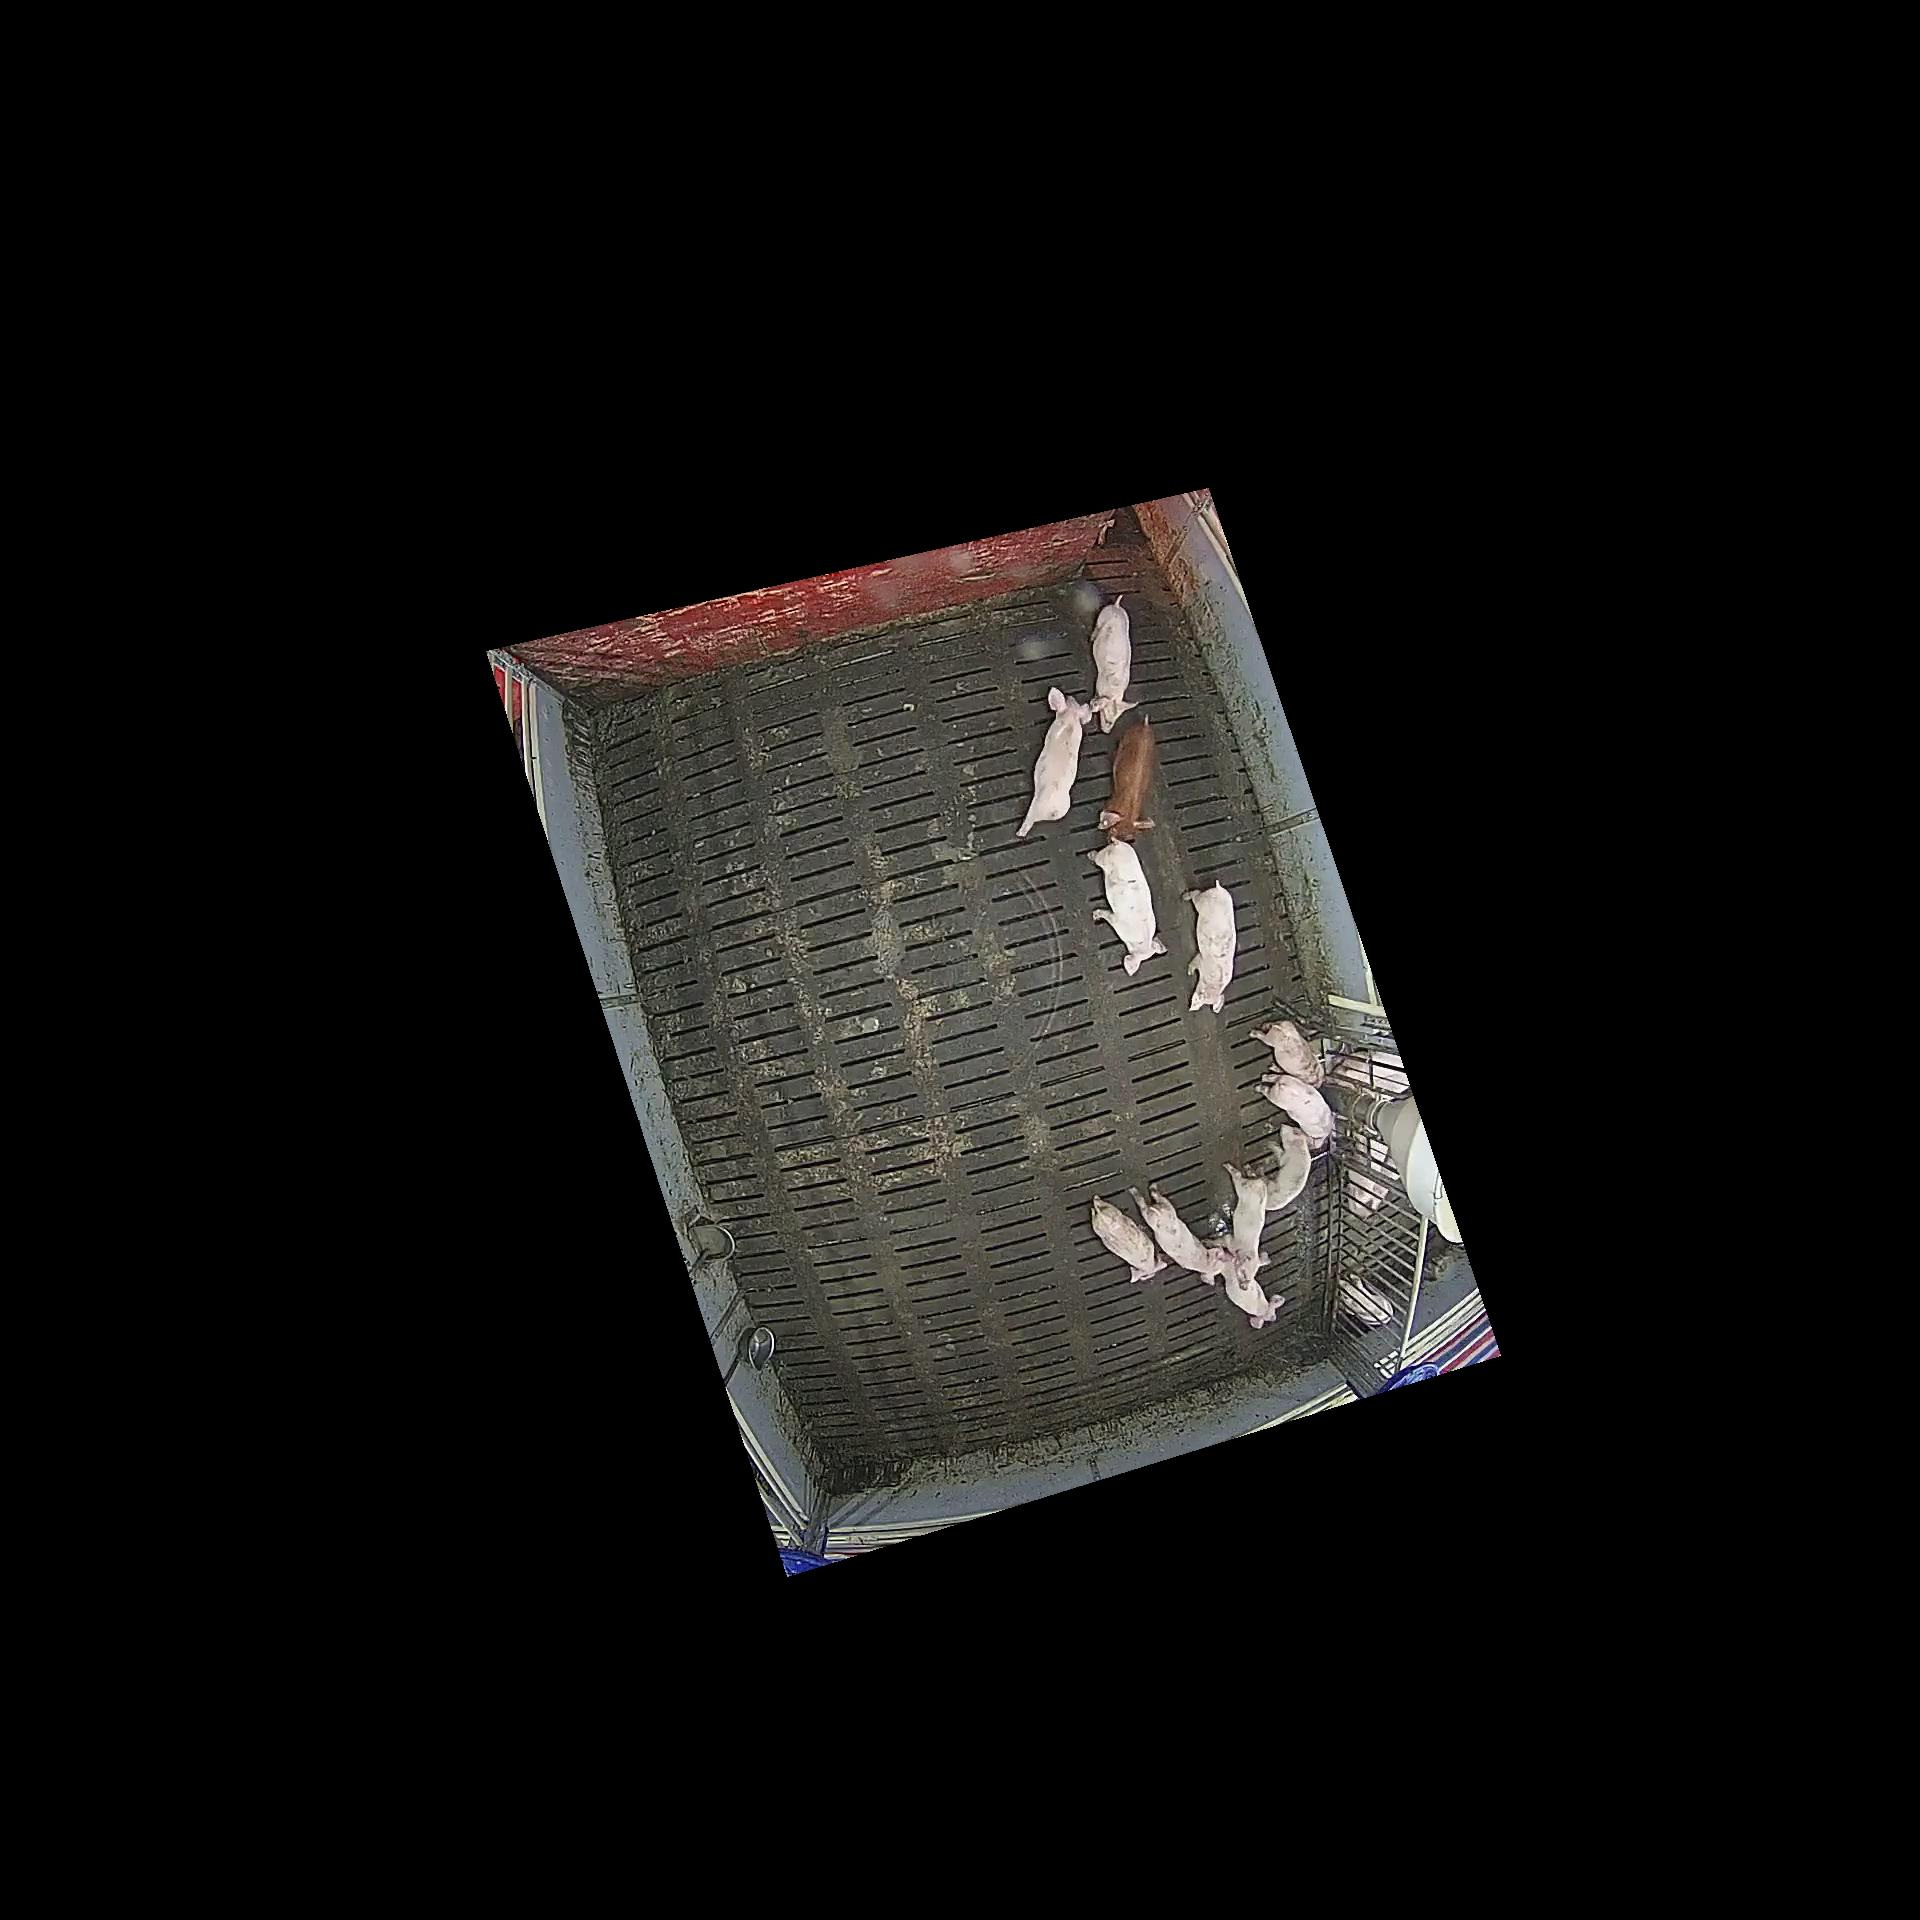pig: (1016, 686, 1092, 839), (1087, 837, 1167, 976), (1129, 1183, 1225, 1285), (1203, 1160, 1273, 1289), (1182, 879, 1236, 1013), (1097, 716, 1155, 839), (1090, 596, 1139, 733), (1090, 1196, 1167, 1282), (1259, 1124, 1322, 1211), (1254, 1074, 1335, 1138), (1250, 1022, 1326, 1085), (1222, 1259, 1287, 1329)
